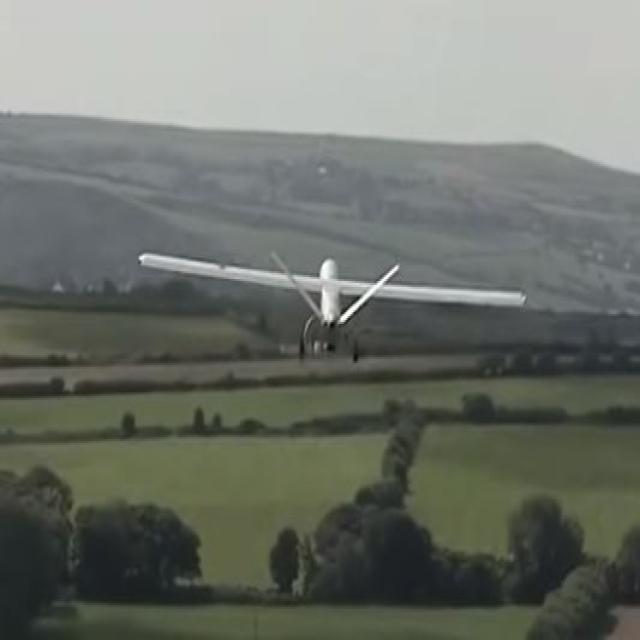iha: (141, 283, 525, 334)
